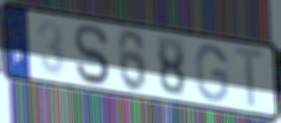3: (37, 18, 67, 79)
6: (117, 27, 148, 94)
8: (156, 35, 188, 98)
G: (194, 42, 230, 104)
S: (73, 22, 112, 87)
T: (232, 44, 268, 111)
